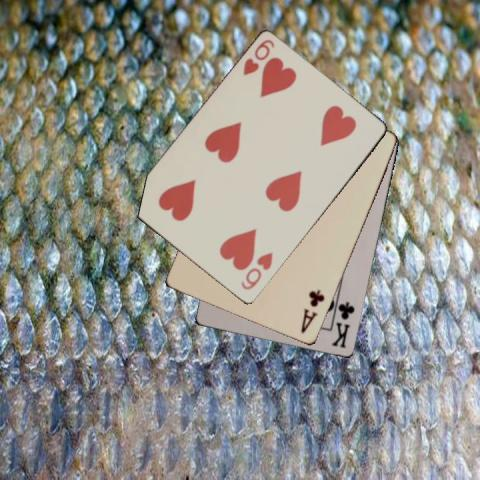6h: (237, 249, 275, 292), (239, 37, 276, 77)
Ac: (298, 287, 327, 336)
Kc: (328, 299, 356, 350)
